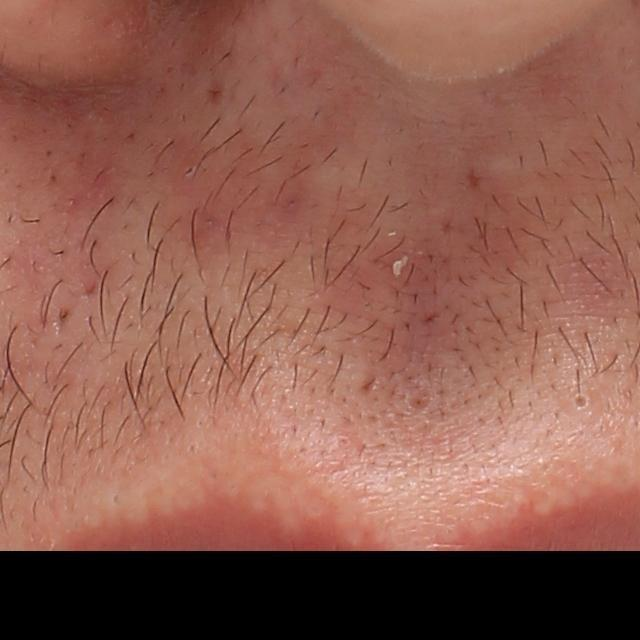comedo: (569, 387, 593, 415)
